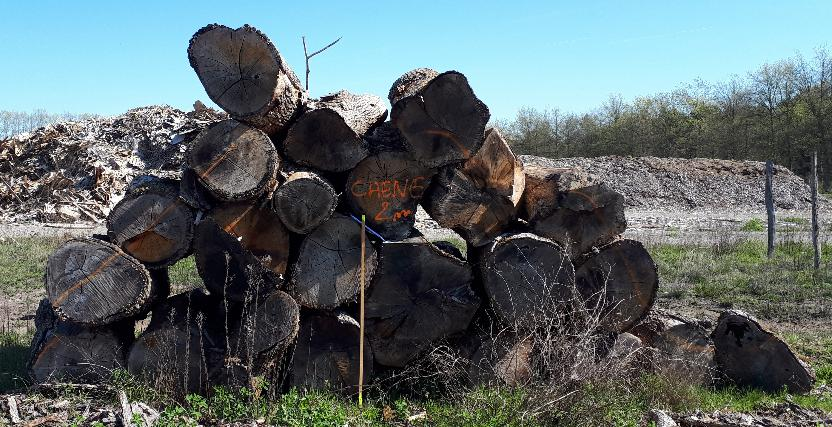object: (367, 239, 481, 353), (186, 202, 298, 307), (437, 127, 523, 234), (526, 161, 628, 248), (394, 71, 492, 160), (715, 307, 816, 393), (188, 23, 282, 115), (487, 235, 576, 327), (46, 241, 148, 320), (124, 327, 224, 403), (572, 243, 658, 330), (186, 122, 282, 197), (293, 217, 377, 299), (105, 188, 193, 265), (287, 317, 373, 395), (36, 326, 124, 398), (468, 329, 572, 385), (346, 151, 424, 224), (650, 316, 716, 394), (290, 107, 368, 170), (226, 286, 296, 344), (572, 335, 644, 389), (221, 345, 279, 392), (272, 178, 334, 221), (358, 214, 368, 409)
pile: (36, 23, 818, 404)
